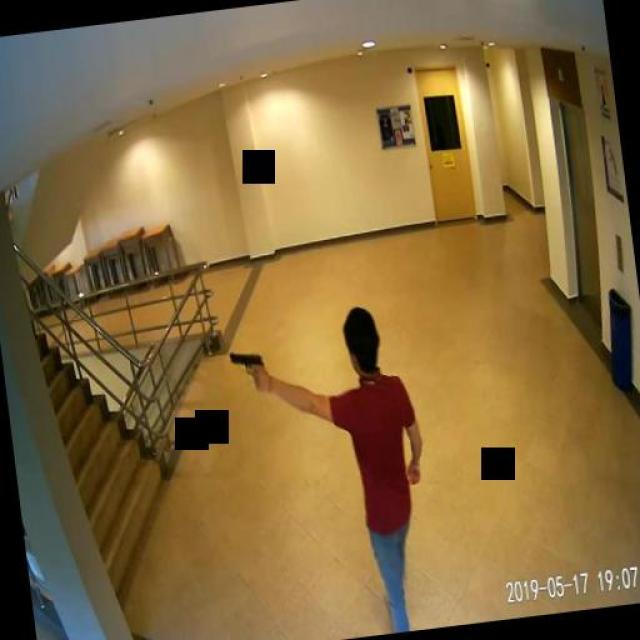gun: (226, 346, 268, 395)
